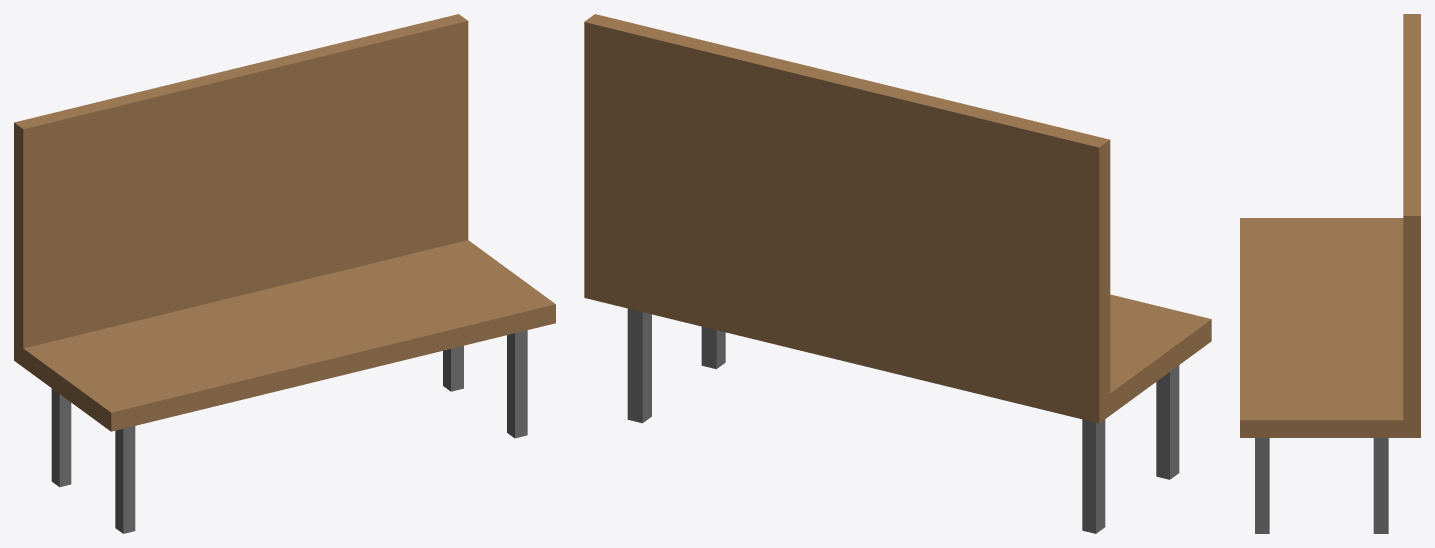
Rendered from Bench.fbx.
The picture shows the model from 3 angles, left to right: view 1: azimuth 30°, elevation 25°; view 2: azimuth 150°, elevation 25°; view 3: azimuth 270°, elevation 25°; orthographic projection. The views are drawn at different scales.
Visible parts, largest first — view 1: Cube.001; view 2: Cube.001; view 3: Cube.001.
Boxes of the visible parts, x1,y1,x2,y2 form: Cube.001: [14, 14, 555, 533]; Cube.001: [584, 14, 1211, 533]; Cube.001: [1240, 14, 1420, 533].
Size of the model in its own units: 1034 by 780 by 391.
